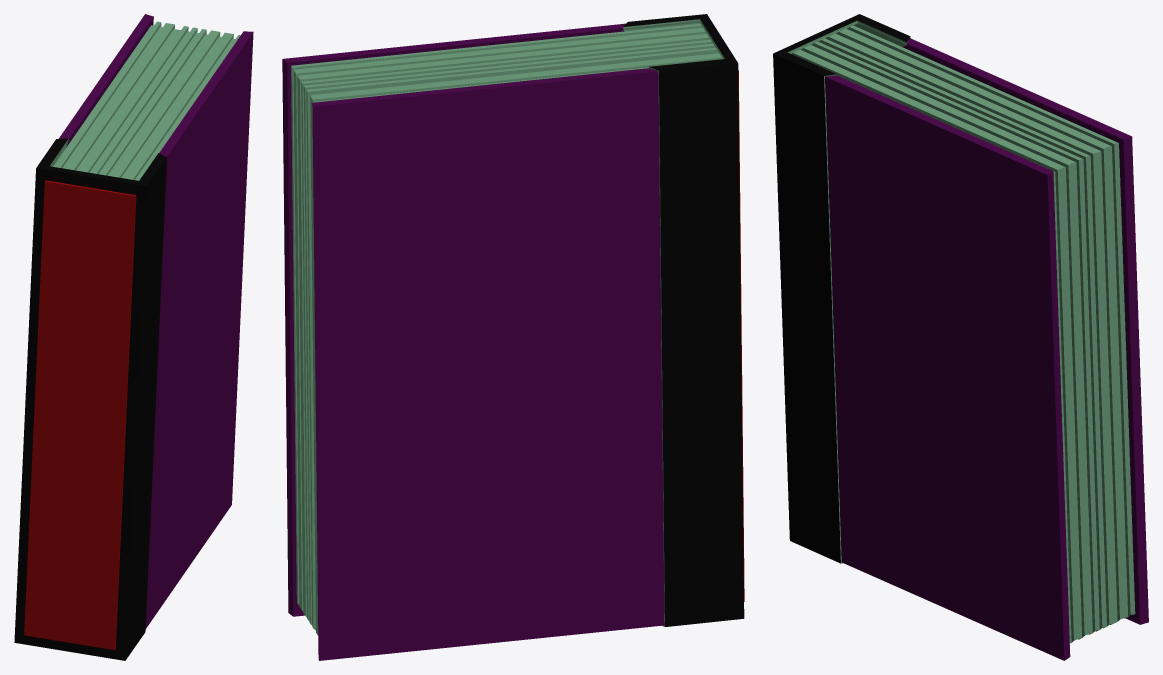
File: SecondShelfBook1.fbx
The picture shows the model from 3 angles, left to right: view 1: azimuth 30°, elevation 25°; view 2: azimuth 150°, elevation 25°; view 3: azimuth 270°, elevation 25°; orthographic projection. The views are drawn at different scales.
Parts seen in each view (by area): view 1: Book.017; view 2: Book.017; view 3: Book.017.
Boxes of the visible parts, box(x1,y1,x2,y2) form: Book.017: box(14, 14, 253, 660); Book.017: box(282, 14, 744, 660); Book.017: box(773, 14, 1148, 660).
Bounding box in the file's own units: 123 × 176 × 120.
